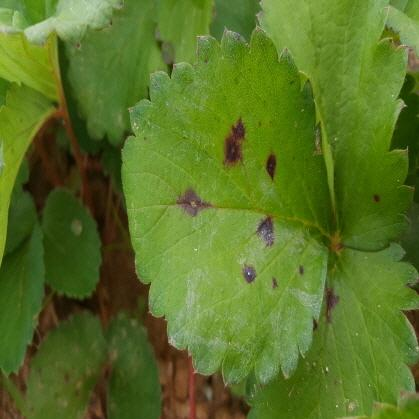Leaf Spot: (118, 24, 337, 387), (254, 0, 415, 252), (235, 241, 418, 418), (21, 309, 108, 418)
